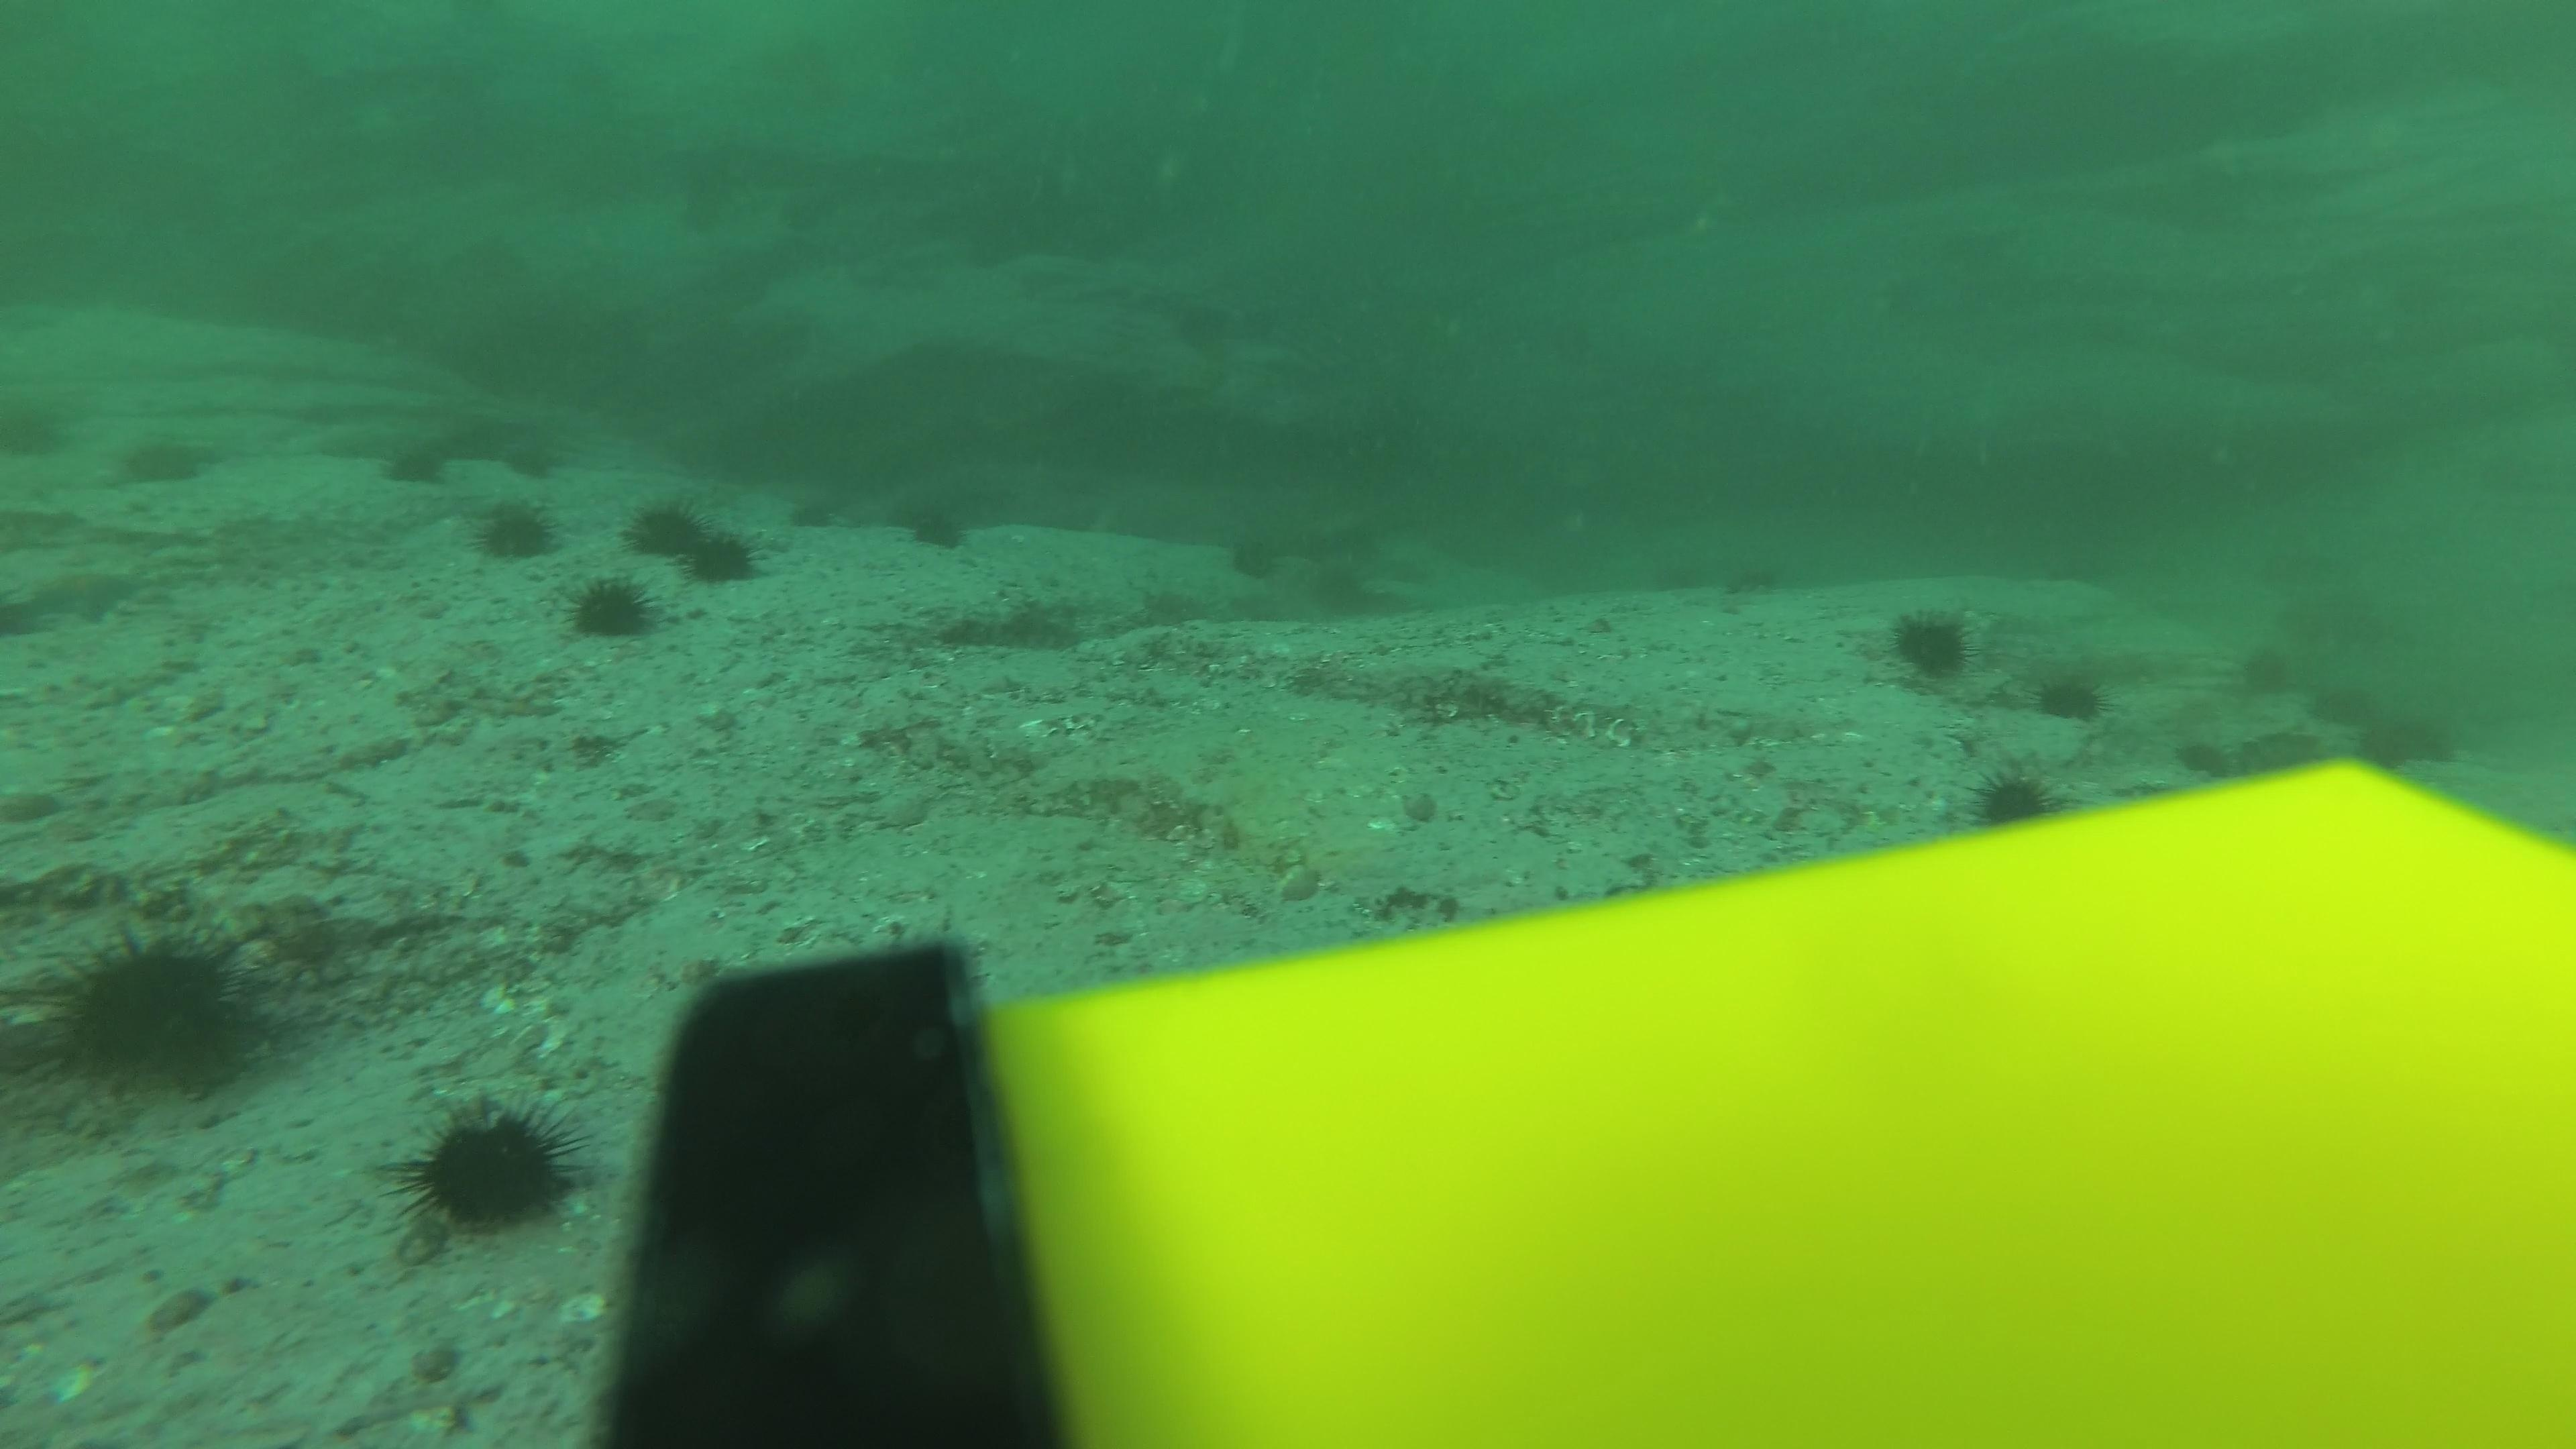echinus: (35, 920, 272, 1100), (395, 1088, 587, 1240), (1874, 600, 1989, 692), (561, 570, 663, 651), (1962, 761, 2068, 839), (464, 492, 563, 570), (110, 425, 219, 494), (2029, 660, 2112, 729), (375, 428, 460, 494), (895, 494, 977, 559), (625, 492, 701, 556), (791, 478, 855, 538), (511, 432, 575, 492), (451, 234, 515, 294), (658, 180, 722, 241), (771, 180, 835, 241), (961, 216, 1024, 276), (1221, 518, 1284, 579), (1311, 556, 1375, 616), (1649, 554, 1713, 614), (1727, 550, 1790, 610), (2369, 717, 2433, 777), (2316, 678, 2380, 738), (2235, 639, 2298, 699), (2330, 594, 2394, 655), (2261, 538, 2325, 598), (695, 533, 759, 591), (1187, 299, 1251, 357), (2160, 713, 2224, 771), (2258, 722, 2321, 780), (2263, 586, 2327, 644), (2482, 444, 2546, 502)
starfish: (5, 556, 154, 635)
